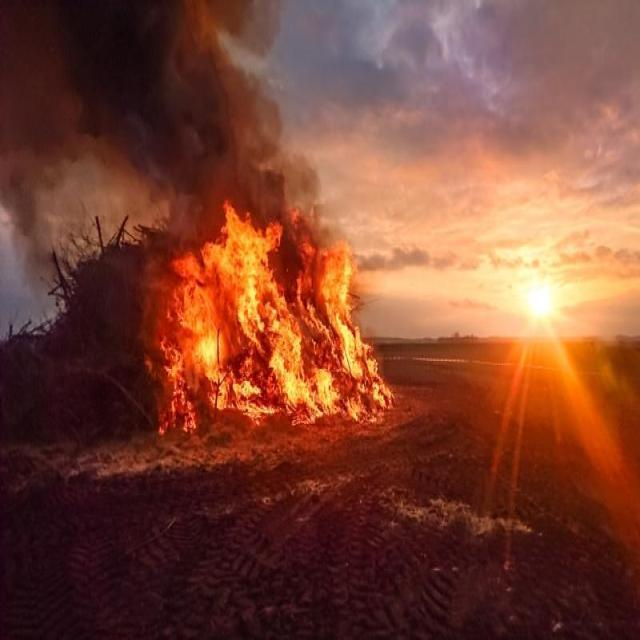Fire: (150, 201, 394, 437)
Smoke: (0, 0, 313, 197)
